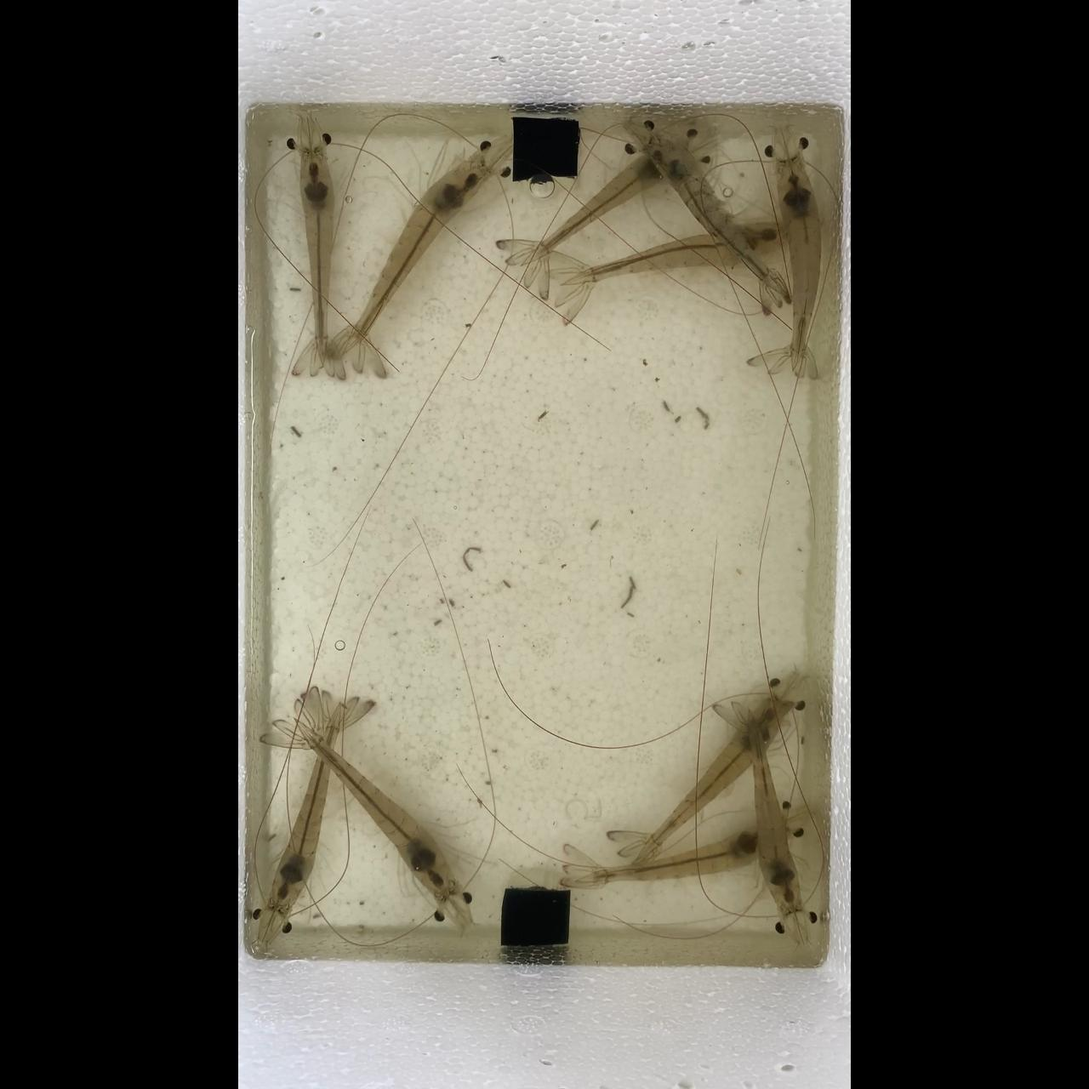box: (513, 116, 580, 181), (500, 887, 569, 948)
top_shrimp: (344, 160, 491, 355), (293, 717, 454, 894), (634, 698, 790, 860), (650, 136, 786, 300), (521, 139, 690, 265), (269, 701, 341, 909), (561, 223, 789, 284), (575, 821, 787, 882), (749, 706, 801, 908), (777, 156, 821, 372), (300, 148, 335, 368)
